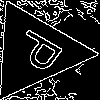P: (10, 26, 74, 80)
